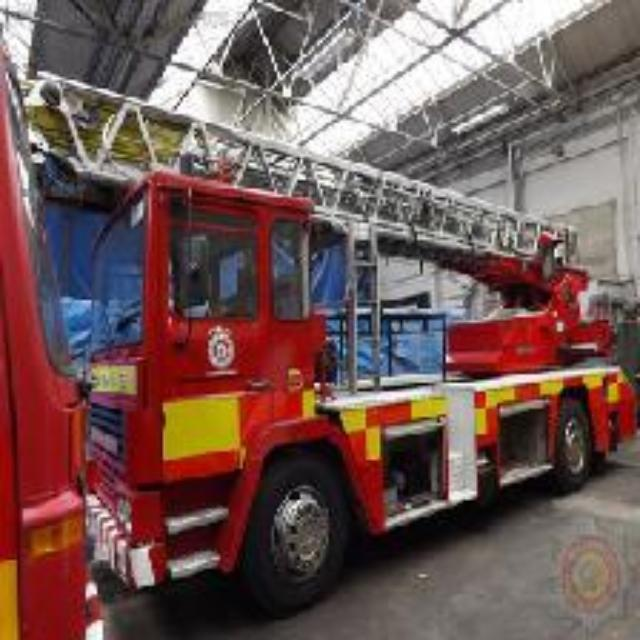emergency: (33, 79, 635, 596)
